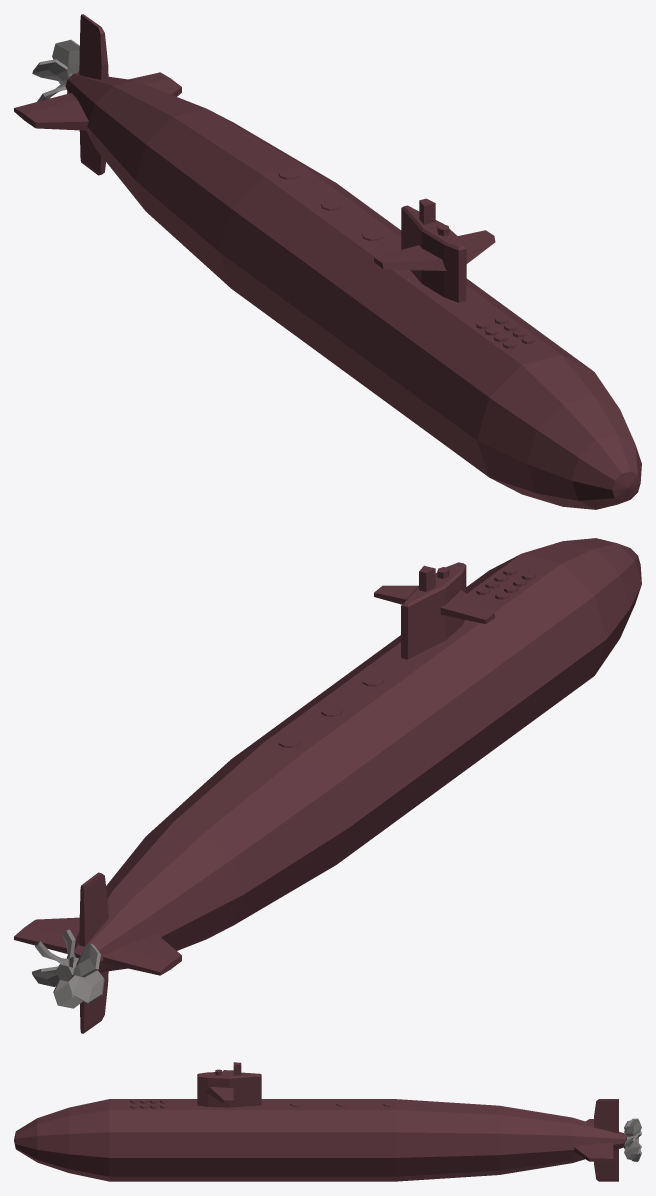
File: submarine.fbx
3 renders of one model, top to bottom at view 1: azimuth 30°, elevation 25°; view 2: azimuth 150°, elevation 25°; view 3: azimuth 270°, elevation 25°, orthographic. The views are drawn at different scales.
Parts seen in each view (by area): view 1: submarine-base, submarine-propeller; view 2: submarine-base, submarine-propeller; view 3: submarine-base, submarine-propeller.
Part boxes in pixels (x1,y1,x2,y2): submarine-base: [14, 14, 641, 509]; submarine-propeller: [32, 39, 79, 101]; submarine-base: [14, 538, 641, 1033]; submarine-propeller: [32, 929, 104, 1008]; submarine-base: [14, 1062, 625, 1181]; submarine-propeller: [624, 1118, 641, 1161].
Bounding box in the file's own units: 10.48 × 14.51 × 70.31.
